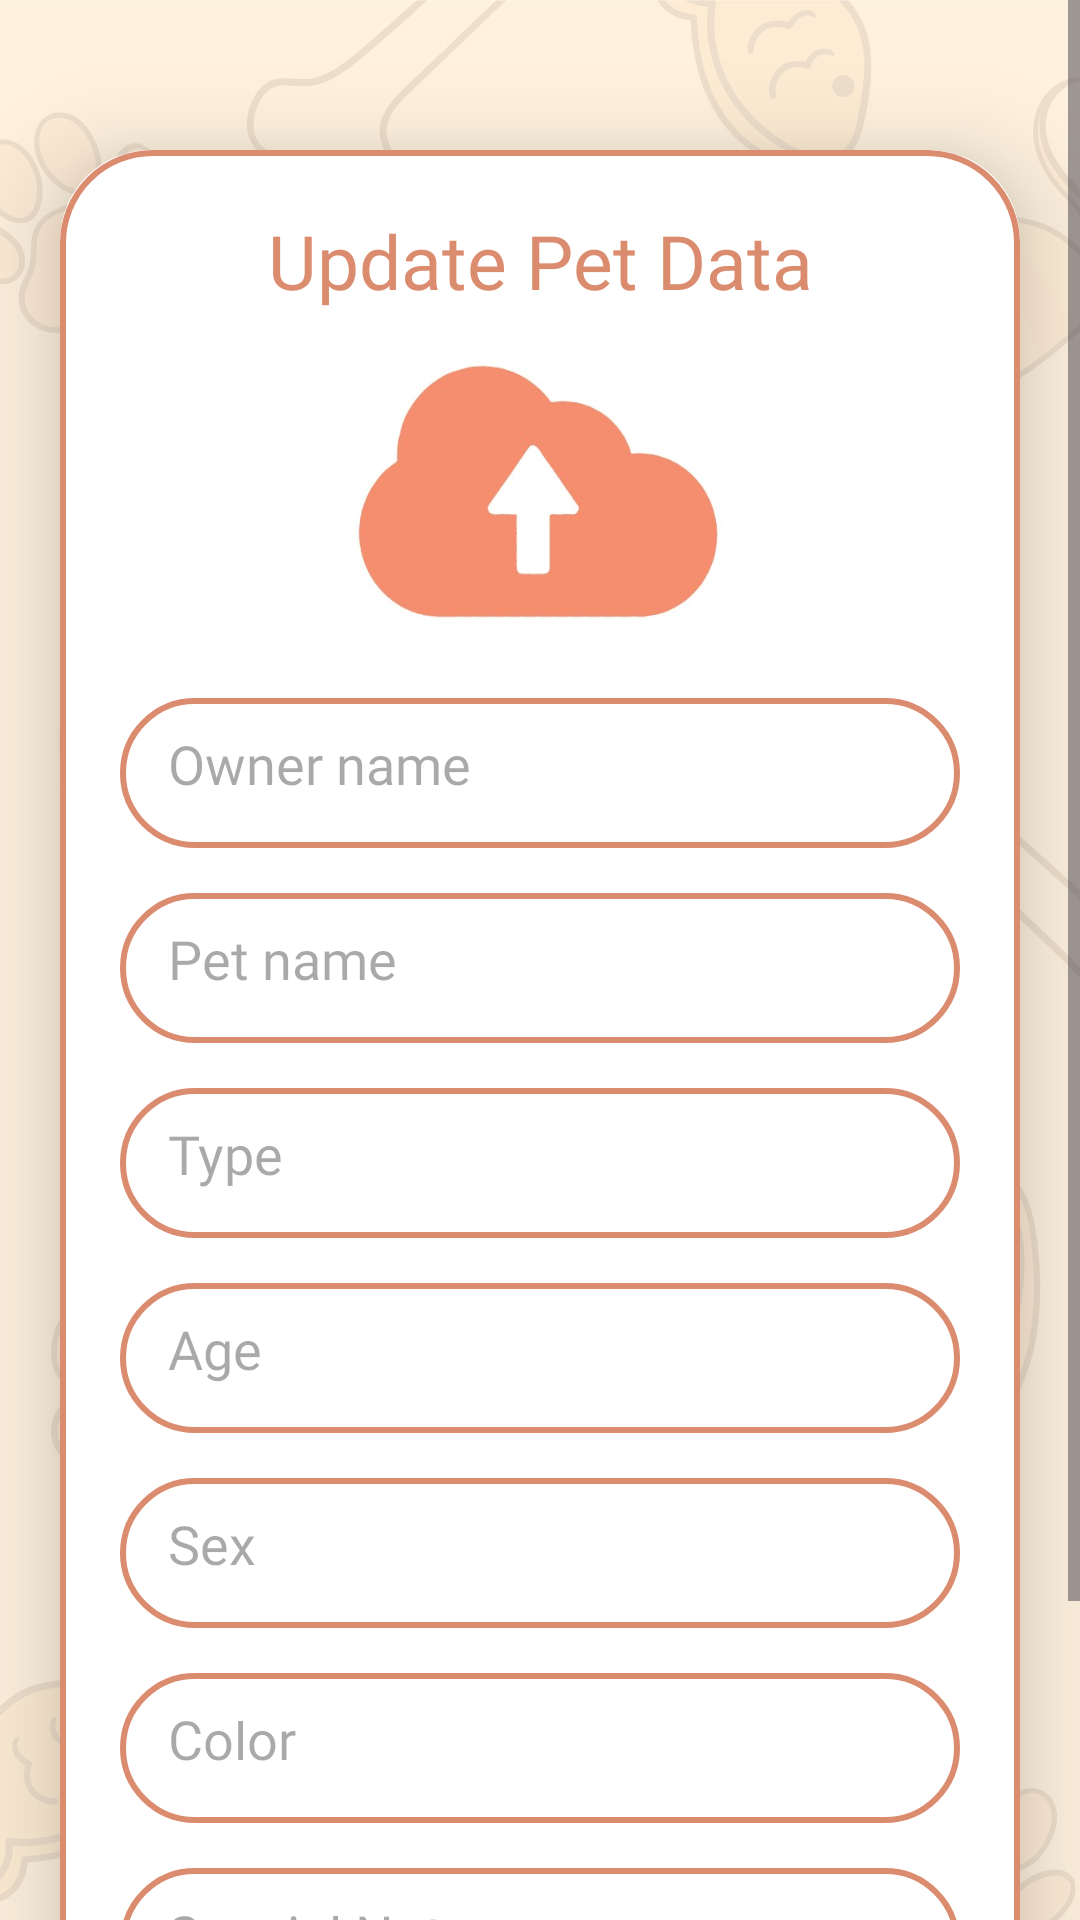

Screen size 1080 x 1920. Icon name, then its center in pixels as (x,y):
uploadimage: (538,491)
